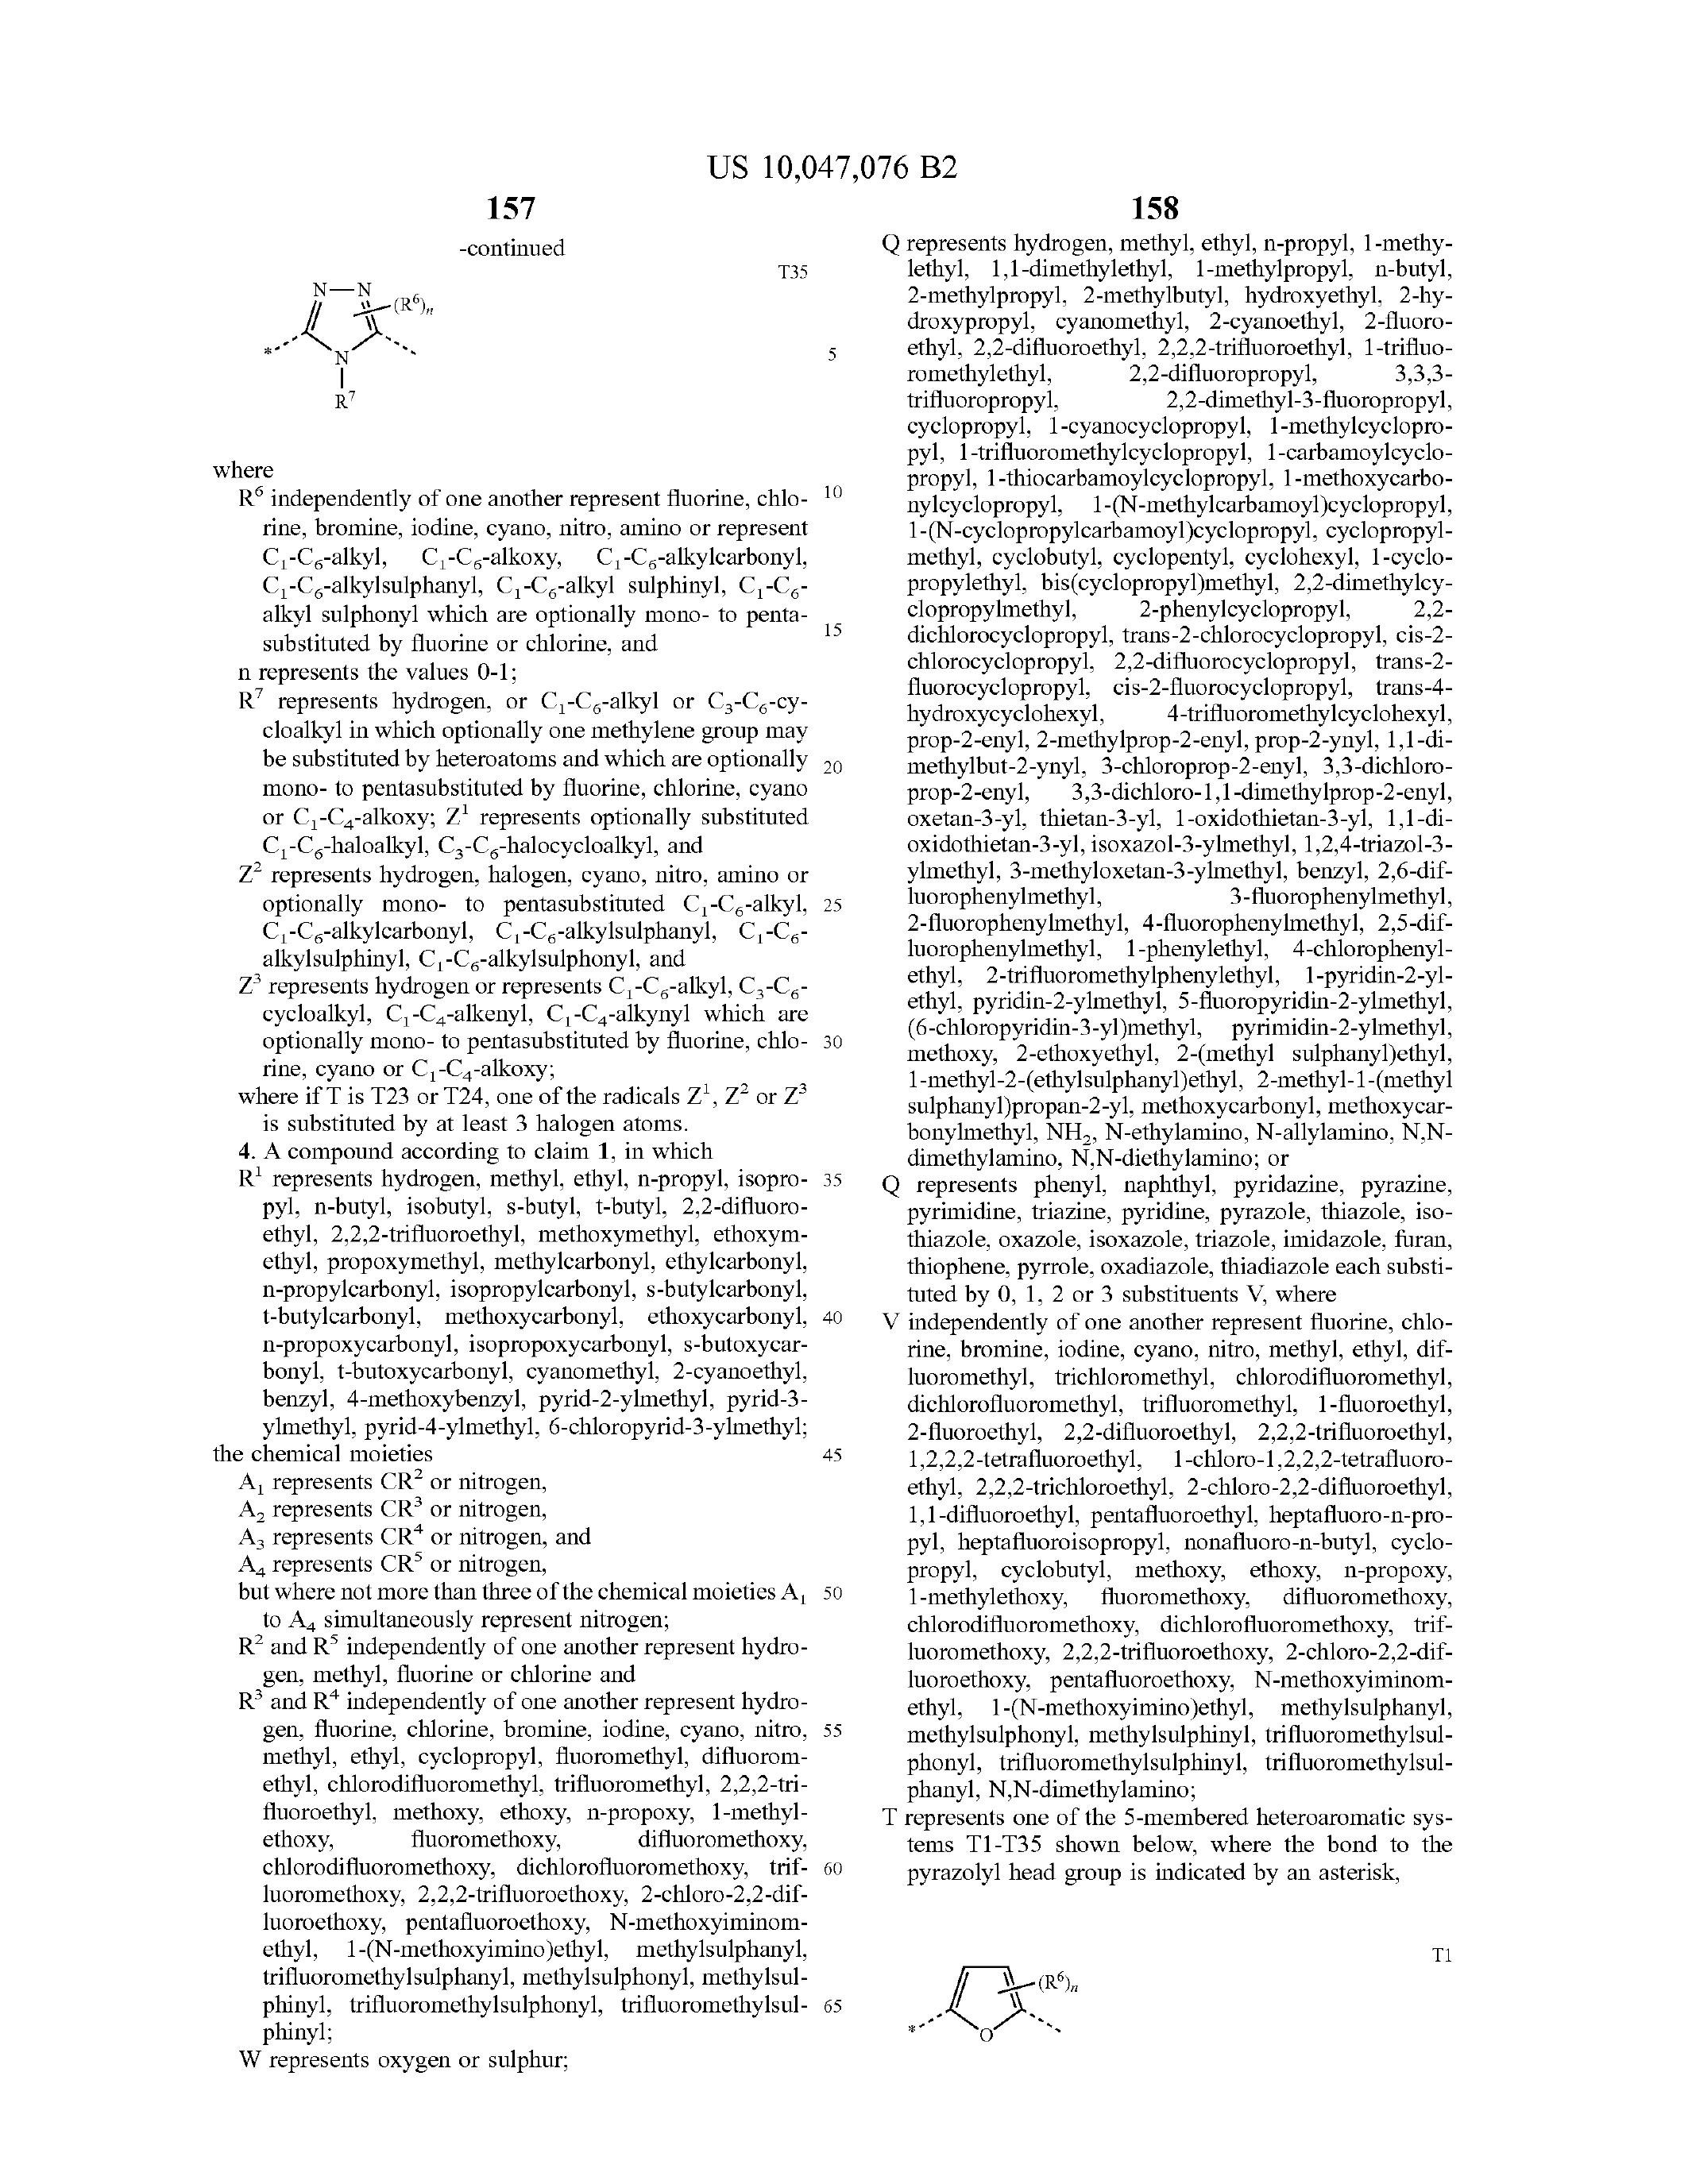substitutes: (195, 238, 816, 847)
